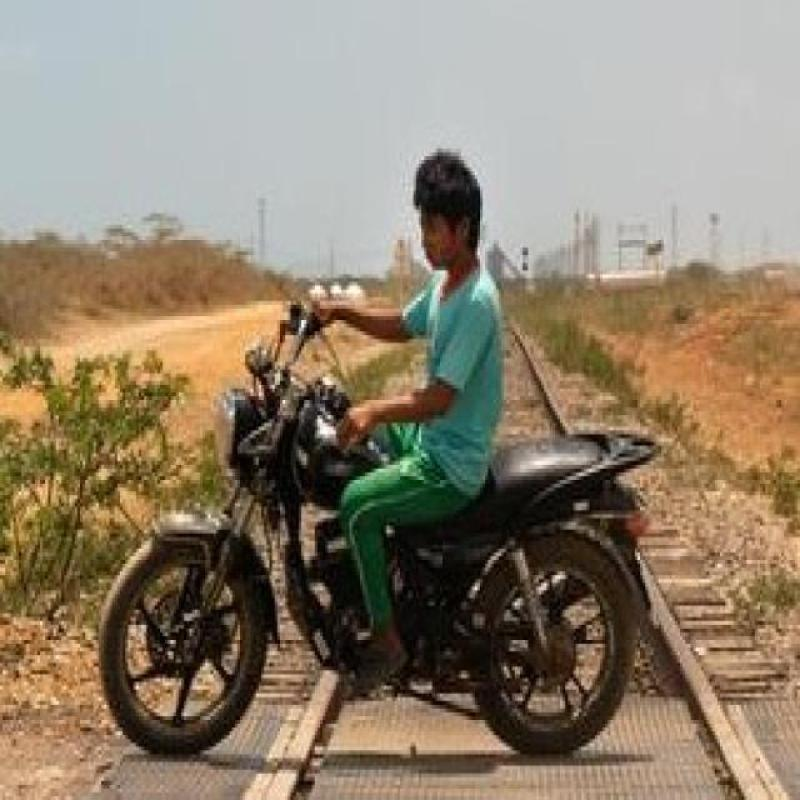nohelmet: (398, 143, 498, 272)
